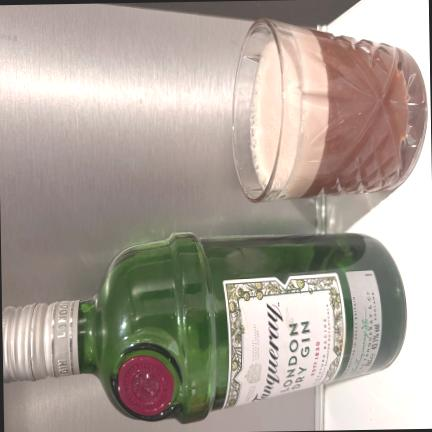container: (233, 18, 427, 201)
fluid: (278, 24, 426, 194)
fluid-surface: (252, 18, 298, 193)
